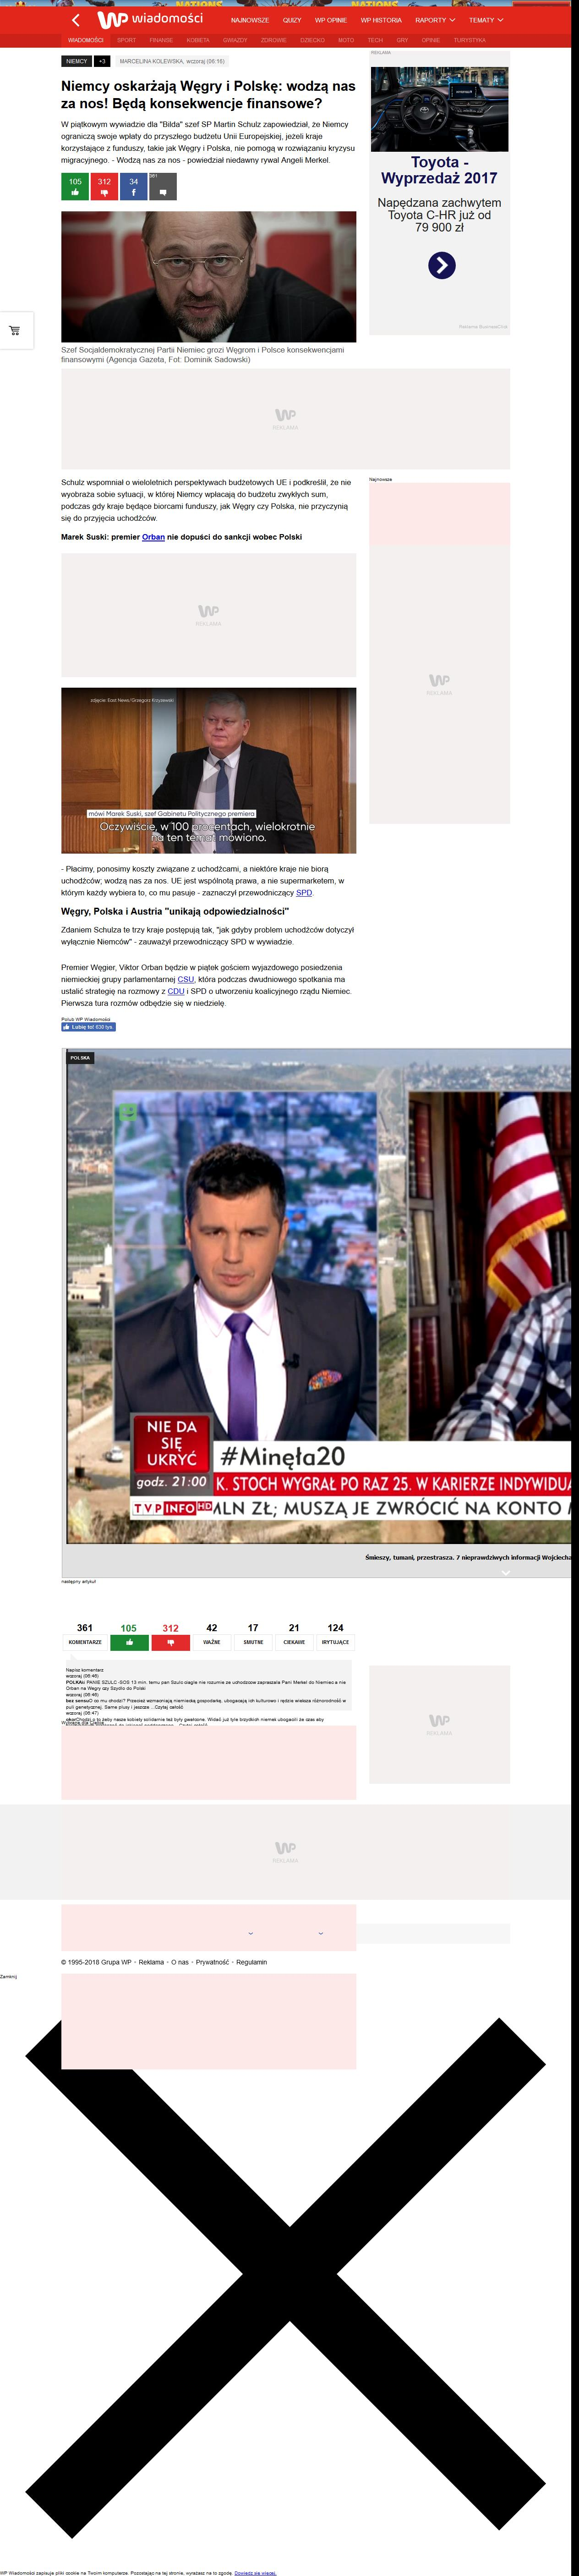title: (61, 80, 356, 108)
